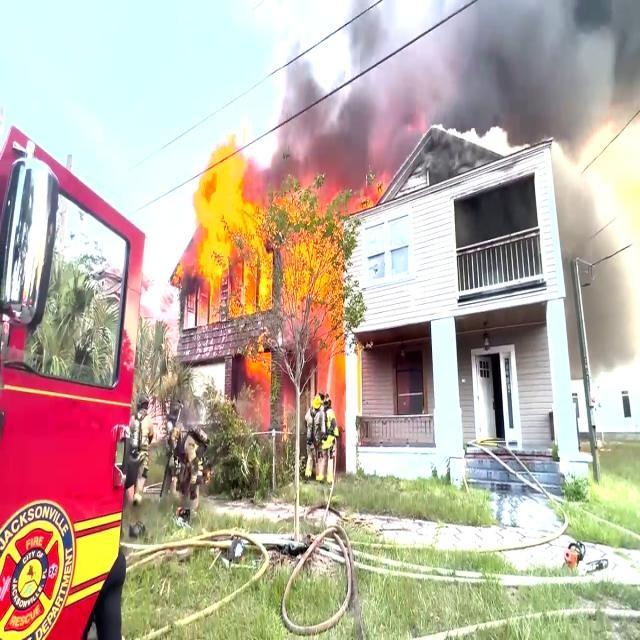Fire: (188, 145, 270, 307), (284, 200, 340, 386)
Smoke: (405, 0, 640, 122), (296, 55, 384, 179)
